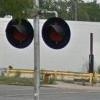traffic lights: (6, 17, 34, 48), (42, 15, 42, 15)
